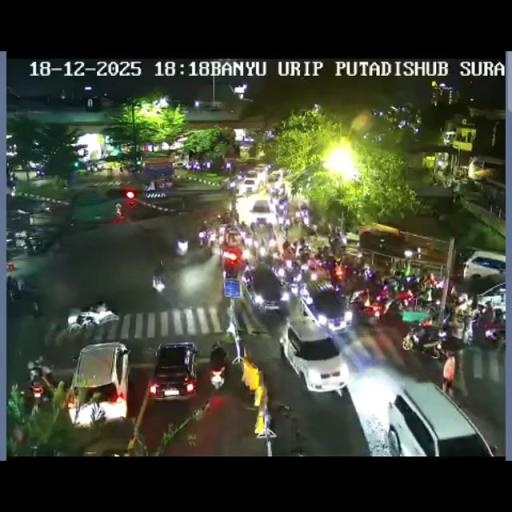Car: (376, 376, 498, 454), (66, 342, 132, 426), (280, 314, 348, 392), (148, 342, 199, 400), (242, 264, 286, 317), (462, 250, 504, 282), (472, 281, 506, 315), (248, 197, 273, 223), (222, 224, 244, 250), (241, 176, 259, 193), (253, 163, 269, 179), (268, 168, 283, 182), (174, 159, 190, 169)
Motorcycle: (398, 282, 447, 316), (402, 320, 446, 356), (352, 286, 390, 322), (335, 260, 371, 294), (471, 313, 504, 349), (276, 258, 306, 292), (250, 218, 277, 249), (65, 309, 96, 335), (209, 344, 227, 388), (26, 372, 46, 410), (89, 302, 120, 326), (449, 314, 469, 344), (328, 227, 347, 252), (6, 275, 21, 302), (383, 274, 403, 294), (323, 254, 338, 278), (217, 209, 235, 227), (174, 236, 189, 257), (152, 270, 166, 292), (440, 306, 454, 328), (298, 279, 312, 301), (274, 205, 288, 226), (23, 234, 37, 254), (296, 207, 310, 226), (298, 248, 312, 266), (39, 202, 58, 214), (207, 230, 217, 250), (274, 182, 286, 198), (221, 175, 232, 192), (217, 224, 226, 240), (258, 244, 268, 257), (198, 233, 206, 248), (10, 187, 16, 197)
